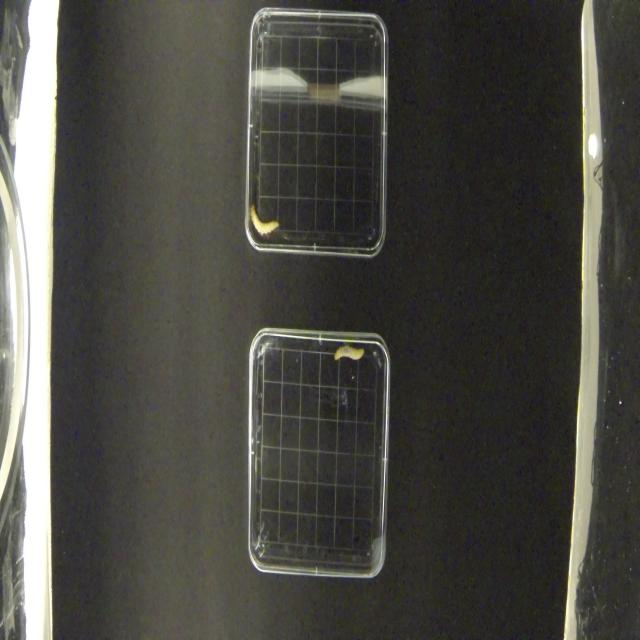larva: (250, 203, 278, 238), (334, 344, 364, 362)
